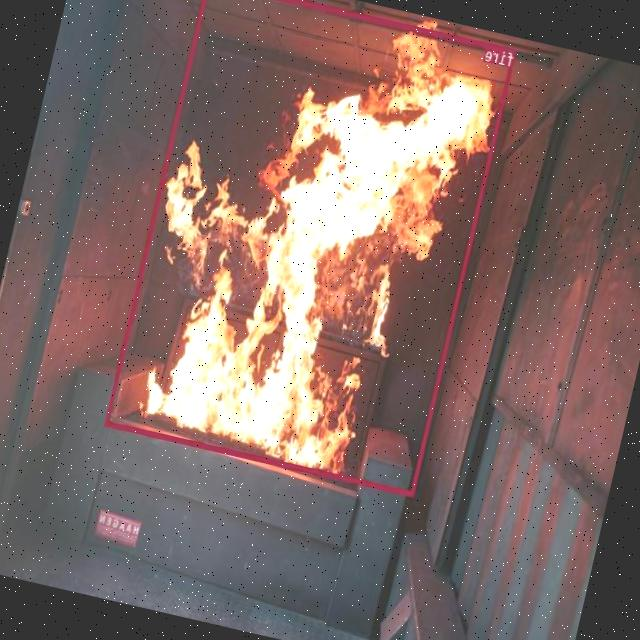fire: (105, 0, 517, 496)
